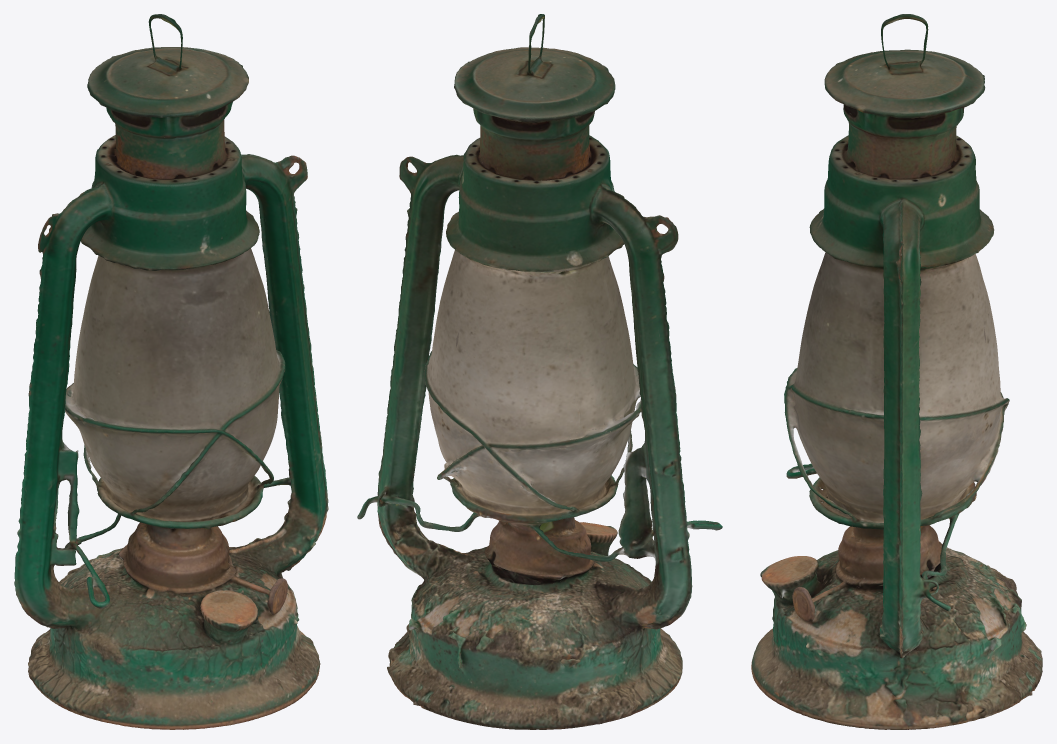
File: old_oil_lamp.glb
The picture shows the model from 3 angles, left to right: view 1: azimuth 30°, elevation 25°; view 2: azimuth 150°, elevation 25°; view 3: azimuth 270°, elevation 25°; orthographic projection.
Parts seen in each view (by area): view 1: Object_3, Object_4, Object_2, Object_5, Object_6, Object_7; view 2: Object_2, Object_3, Object_4, Object_5, Object_6, Object_7; view 3: Object_2, Object_4, Object_3, Object_5, Object_6, Object_7.
Part boxes in pixels (<box>): Object_3: <box>14,34,324,727</box>; Object_4: <box>21,14,328,729</box>; Object_2: <box>28,47,319,729</box>; Object_5: <box>15,15,328,718</box>; Object_6: <box>14,14,327,729</box>; Object_7: <box>15,25,326,729</box>; Object_2: <box>381,48,687,729</box>; Object_3: <box>381,20,722,717</box>; Object_4: <box>357,14,703,721</box>; Object_5: <box>360,14,721,725</box>; Object_6: <box>357,15,721,729</box>; Object_7: <box>358,31,713,729</box>; Object_2: <box>751,55,1042,718</box>; Object_4: <box>758,14,1038,729</box>; Object_3: <box>754,18,1022,729</box>; Object_5: <box>755,14,1042,726</box>; Object_6: <box>753,14,1041,729</box>; Object_7: <box>754,18,1038,729</box>.
Size of the model in its own units: 18.63 by 37.05 by 14.99.
1 material, 1 textured.
